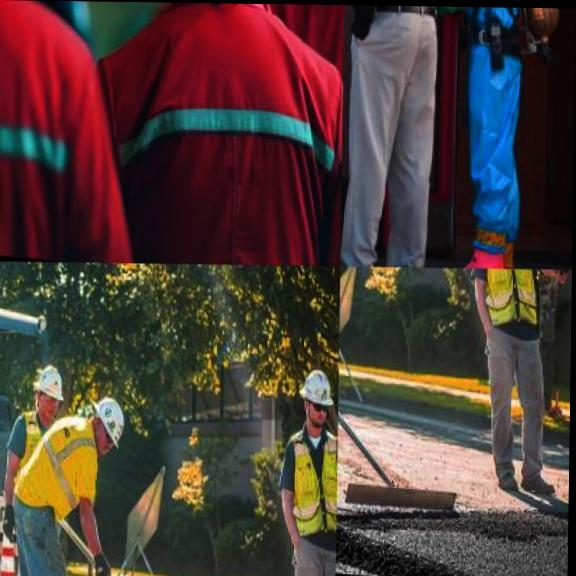safety_vest: (102, 2, 340, 265), (0, 0, 76, 261), (12, 420, 98, 526), (259, 4, 344, 88), (287, 426, 338, 542), (451, 7, 530, 72), (480, 268, 536, 331), (8, 417, 57, 486)
